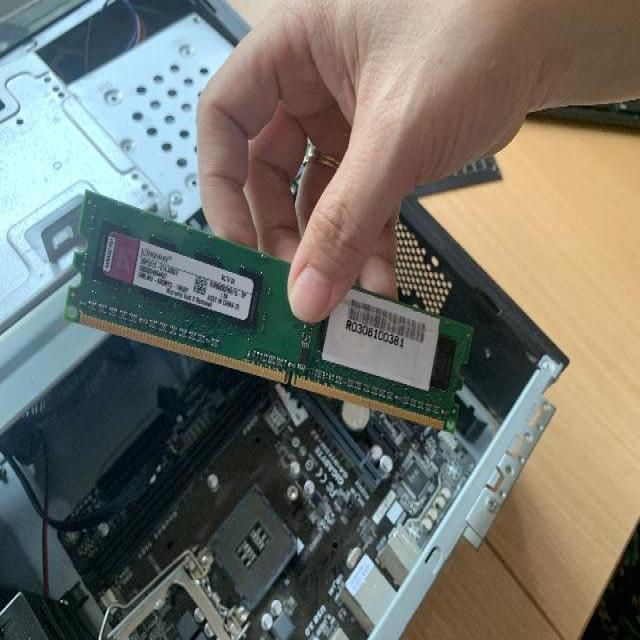RAM: (64, 189, 476, 434)
